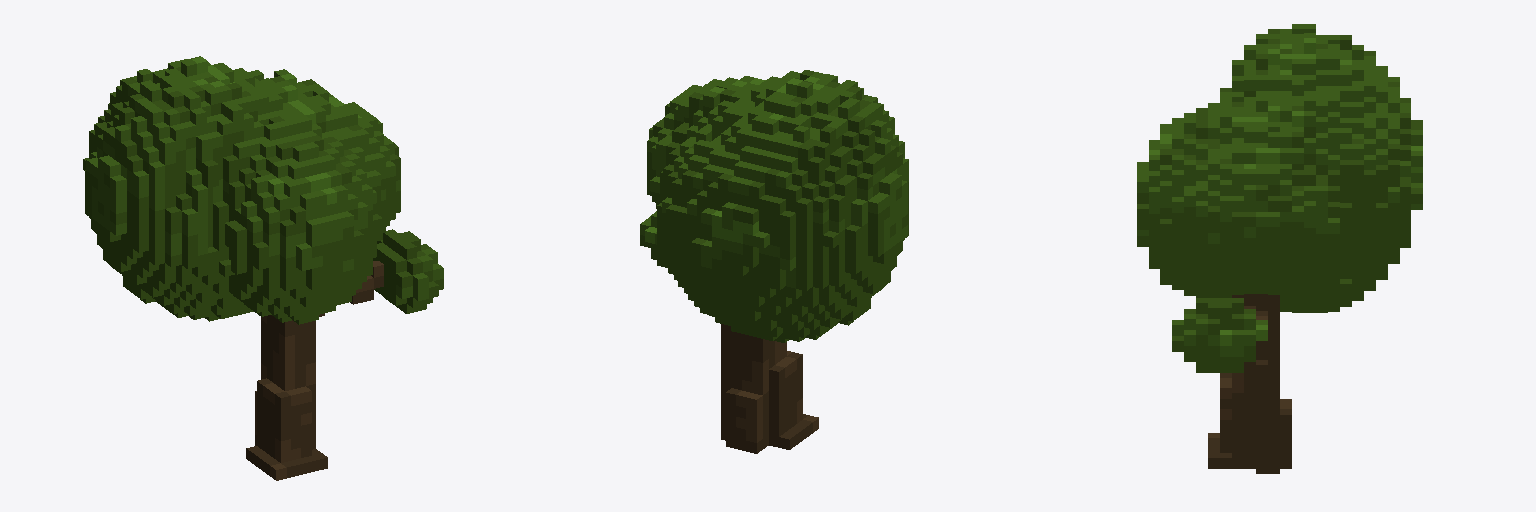
3 views of the same model, side by side, from view 1: azimuth 30°, elevation 25°; view 2: azimuth 150°, elevation 25°; view 3: azimuth 270°, elevation 25° (orthographic).
Visible parts, largest first — view 1: object 1; view 2: object 1; view 3: object 1.
Boxes of the visible parts, x1=… form: object 1: x1=83, y1=56, x2=443, y2=480; object 1: x1=640, y1=70, x2=908, y2=453; object 1: x1=1137, y1=24, x2=1422, y2=473.
Bounding box in the file's own units: 2.7 × 3.6 × 2.4.
Materials: 1 (1 with a texture image).